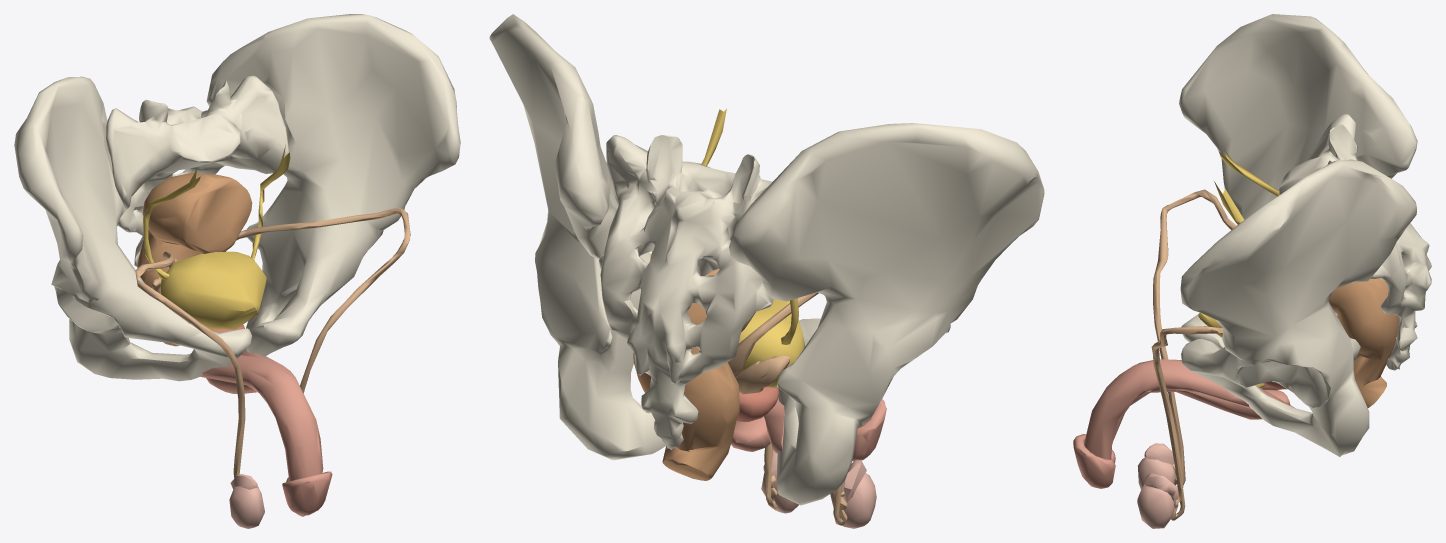
File: maennl3d.glb
3 views of the same model, side by side, from view 1: azimuth 30°, elevation 25°; view 2: azimuth 150°, elevation 25°; view 3: azimuth 270°, elevation 25° (orthographic). The views are drawn at different scales.
Parts seen in each view (by area): view 1: Left hip bone, Right hip bone, Sacrum, Rectum, Urinary bladder, Corpus cavernosum of penis, Left deferent duct, Right deferent duct, Glans penis, Right testis, Right ureter, Left ureter; view 2: Right hip bone, Sacrum, Left hip bone, Rectum, Urinary bladder, Right deferent duct, Right testis, Right seminal vesicle, Prostate, Glans penis, Corpus spongiosum of penis, Corpus cavernosum of penis; view 3: Left hip bone, Right hip bone, Sacrum, Rectum, Corpus cavernosum of penis, Right deferent duct, Left deferent duct, Glans penis, Left testis, Corpus spongiosum of penis, Right testis, Left epididymis (+2 smaller).
Part boxes in pixels (<box>): Left hip bone: <box>206,14,460,356</box>; Right hip bone: <box>14,76,251,381</box>; Sacrum: <box>106,75,289,267</box>; Rectum: <box>137,173,252,346</box>; Urinary bladder: <box>160,251,266,329</box>; Corpus cavernosum of penis: <box>200,348,323,481</box>; Left deferent duct: <box>225,208,410,393</box>; Right deferent duct: <box>135,251,245,477</box>; Glans penis: <box>282,471,332,515</box>; Right testis: <box>229,486,264,528</box>; Right ureter: <box>143,167,200,279</box>; Left ureter: <box>251,145,290,259</box>; Right hip bone: <box>729,123,1044,505</box>; Sacrum: <box>599,135,773,449</box>; Left hip bone: <box>489,14,665,460</box>; Rectum: <box>633,269,755,480</box>; Urinary bladder: <box>738,299,805,387</box>; Right deferent duct: <box>728,292,847,525</box>; Right testis: <box>830,473,876,528</box>; Right seminal vesicle: <box>735,356,789,394</box>; Prostate: <box>736,387,779,422</box>; Glans penis: <box>852,399,886,461</box>; Corpus spongiosum of penis: <box>731,416,770,451</box>; Corpus cavernosum of penis: <box>764,397,871,453</box>; Left hip bone: <box>1180,159,1416,456</box>; Right hip bone: <box>1179,14,1417,348</box>; Sacrum: <box>1279,114,1431,370</box>; Rectum: <box>1328,278,1399,407</box>; Corpus cavernosum of penis: <box>1084,359,1295,459</box>; Right deferent duct: <box>1153,189,1236,485</box>; Left deferent duct: <box>1151,326,1222,520</box>; Glans penis: <box>1073,434,1115,488</box>; Left testis: <box>1137,484,1174,528</box>; Corpus spongiosum of penis: <box>1110,389,1290,458</box>; Right testis: <box>1138,457,1175,489</box>; Left epididymis: <box>1144,473,1178,508</box>.
Bounding box in the file's own units: 0.2898 × 0.2684 × 0.208.
